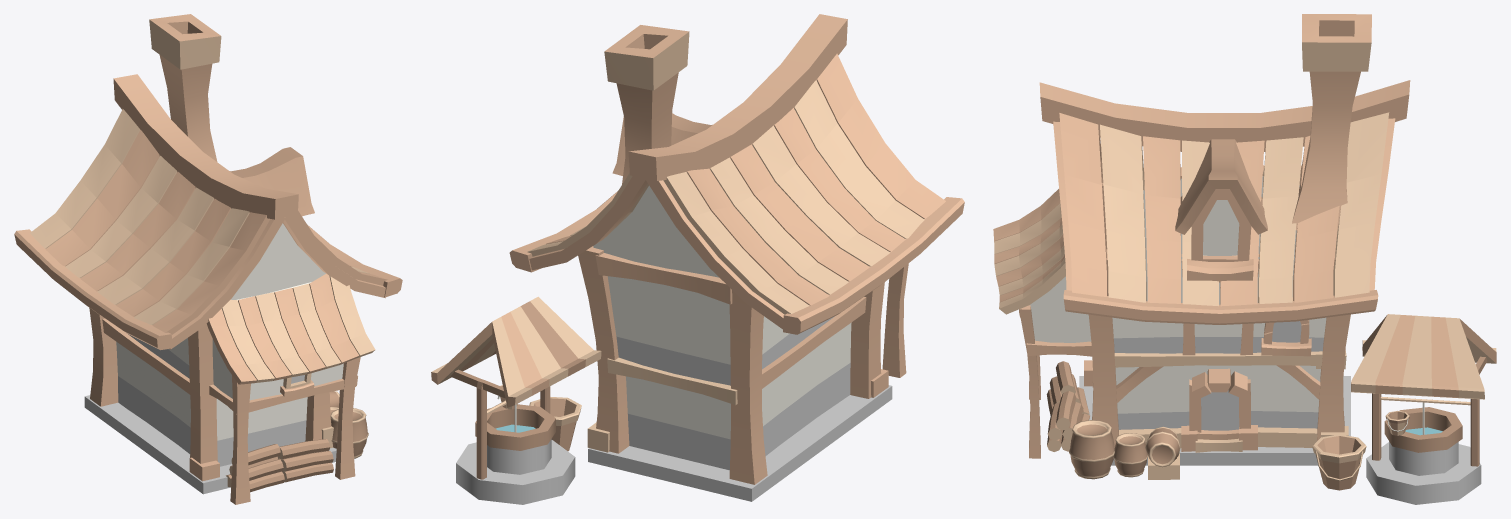
Rendered from house01level04.fbx.
The picture shows the model from 3 angles, left to right: view 1: azimuth 30°, elevation 25°; view 2: azimuth 150°, elevation 25°; view 3: azimuth 270°, elevation 25°; orthographic projection. The views are drawn at different scales.
Visible parts, largest first — view 1: house1_04, house1_02, house1_03, polySurface345, house1_01_base, polySurface268, polySurface343, polySurface379, polySurface342; view 2: house1_02, house1_04, house1_03, polySurface372, polySurface373, house1_01_base, polySurface345, polySurface378, pCylinder1, polySurface343; view 3: house1_04, house1_02, house1_03, polySurface345, polySurface372, polySurface343, polySurface373, polySurface379, polySurface332, house1_01_base, polySurface268, pCylinder1 (+3 smaller).
Part boxes in pixels (left/top/right/bottom): house1_04: left=30, top=109, right=387, bottom=384; house1_02: left=14, top=74, right=402, bottom=504; house1_03: left=116, top=223, right=343, bottom=466; polySurface345: left=149, top=14, right=221, bottom=161; house1_01_base: left=84, top=395, right=336, bottom=494; polySurface268: left=226, top=439, right=333, bottom=492; polySurface343: left=230, top=147, right=314, bottom=216; polySurface379: left=329, top=391, right=368, bottom=458; polySurface342: left=280, top=373, right=314, bottom=396; house1_02: left=509, top=14, right=964, bottom=484; house1_04: left=527, top=53, right=945, bottom=314; house1_03: left=593, top=185, right=851, bottom=470; polySurface372: left=431, top=296, right=601, bottom=407; polySurface373: left=456, top=404, right=575, bottom=504; house1_01_base: left=588, top=385, right=892, bottom=501; polySurface345: left=604, top=25, right=689, bottom=184; polySurface378: left=450, top=369, right=505, bottom=479; pCylinder1: left=529, top=397, right=581, bottom=451; polySurface343: left=612, top=113, right=712, bottom=175; house1_04: left=993, top=112, right=1389, bottom=314; house1_02: left=1019, top=80, right=1410, bottom=458; house1_03: left=1029, top=176, right=1326, bottom=429; polySurface345: left=1292, top=14, right=1371, bottom=230; polySurface372: left=1351, top=314, right=1496, bottom=399; polySurface343: left=1175, top=139, right=1267, bottom=282; polySurface373: left=1366, top=407, right=1481, bottom=504; polySurface379: left=1069, top=420, right=1180, bottom=479; polySurface332: left=1189, top=368, right=1250, bottom=432; house1_01_base: left=1079, top=376, right=1350, bottom=465; polySurface268: left=1046, top=361, right=1089, bottom=451; pCylinder1: left=1312, top=434, right=1366, bottom=490.
Size of the model in its own units: 9.78 by 12.65 by 13.88.
